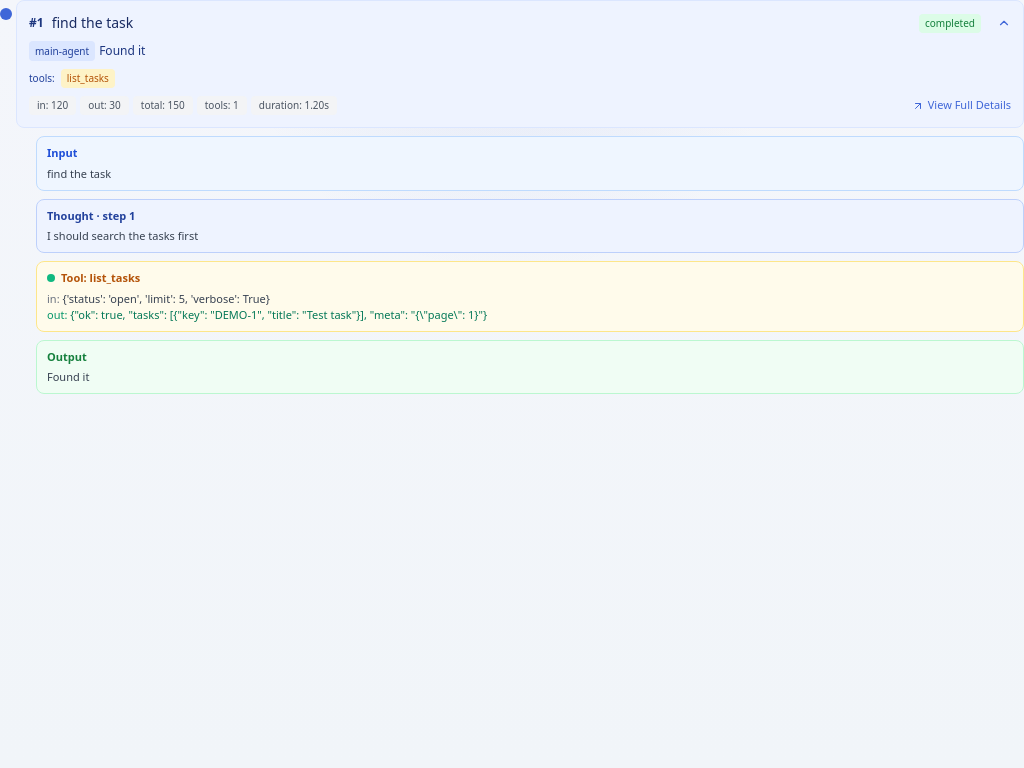
it: ProcessGraph steps › opens the full step in a modal on click, and closes it with Escape
Click the button with test id "process-node" at (91, 215), box [36, 198, 1023, 253]
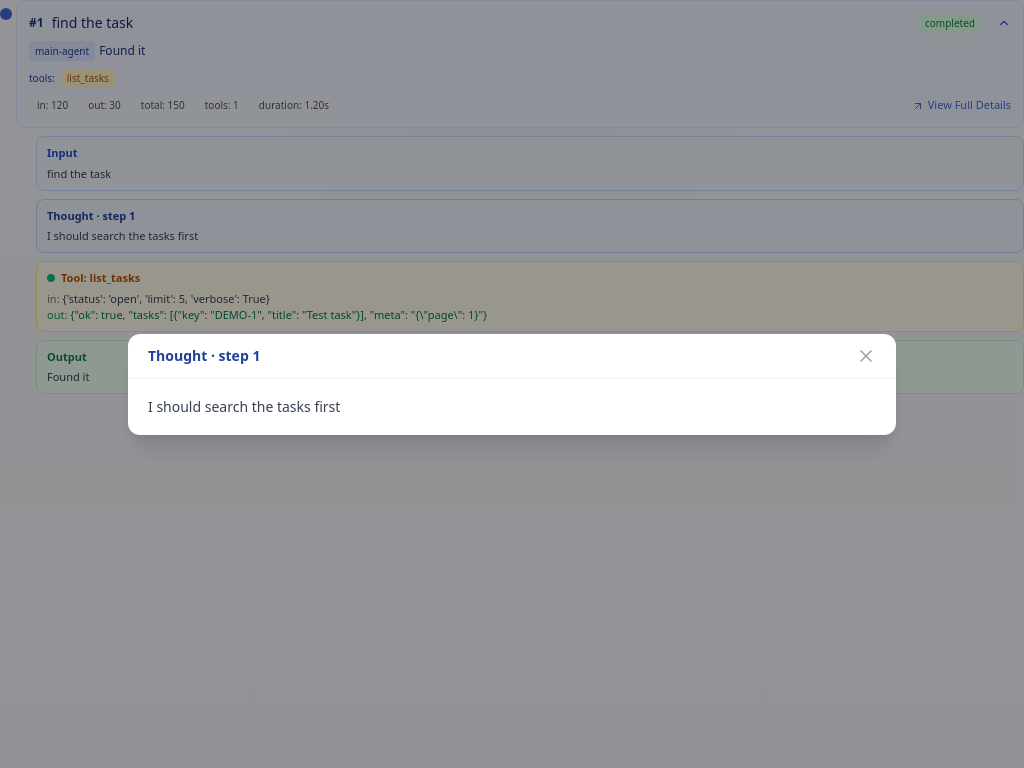
Check: the text "I should search the tasks first" is shown, box [148, 396, 340, 416]
Press Escape
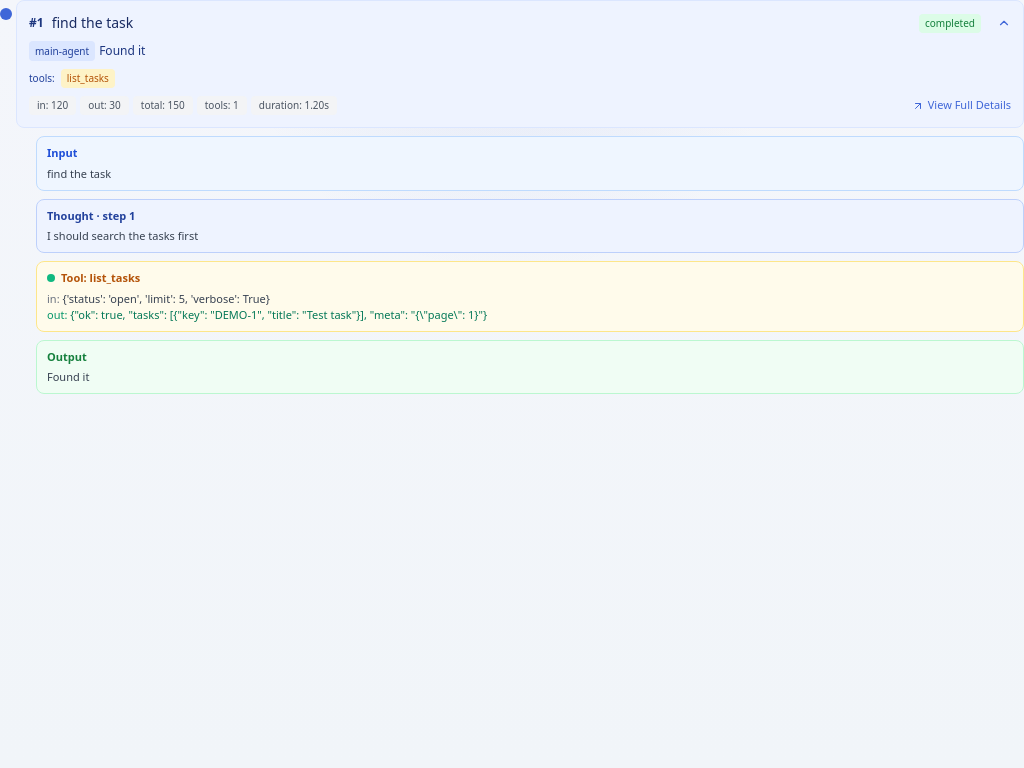
Check: the dialog with test id "process-step-modal" is gone
